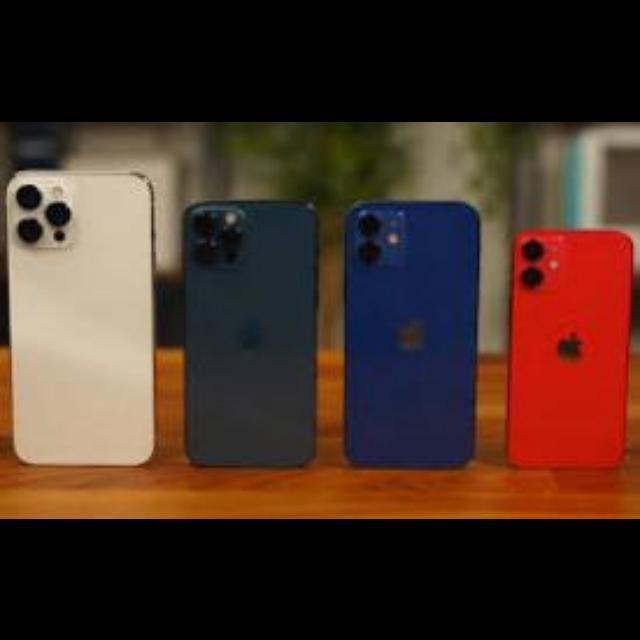PhoneUse: (0, 178, 154, 474), (185, 200, 317, 470), (350, 202, 474, 468), (513, 230, 627, 472)
